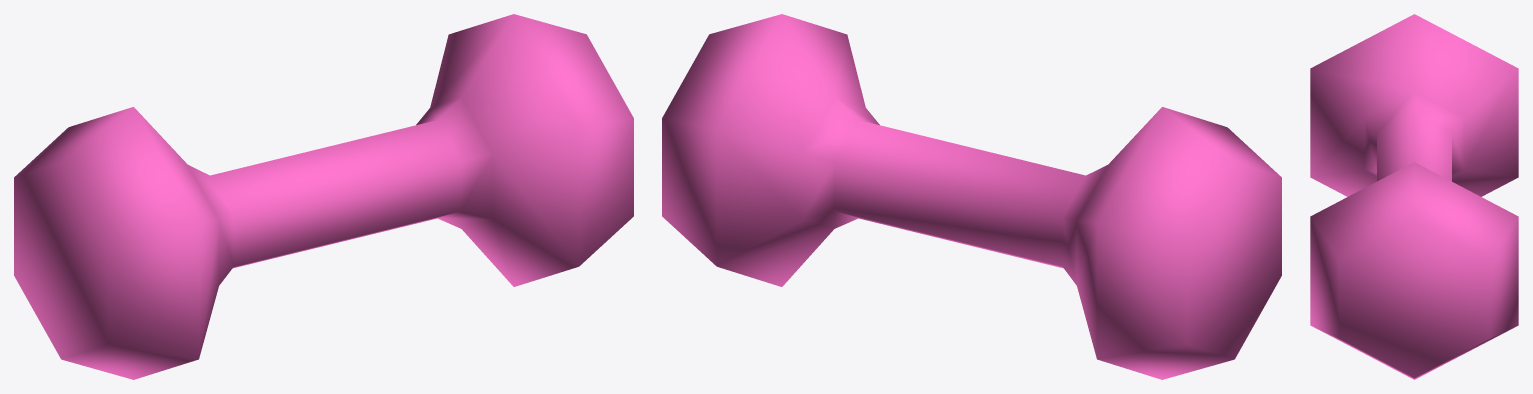
File: Weight_09.FBX
3 renders of one model, left to right at view 1: azimuth 30°, elevation 25°; view 2: azimuth 150°, elevation 25°; view 3: azimuth 270°, elevation 25°, orthographic. The views are drawn at different scales.
Visible parts, largest first — view 1: Weight; view 2: Weight; view 3: Weight.
Boxes of the visible parts, x1,y1,x2,y2 form: Weight: (14,14,633,379); Weight: (662,14,1281,379); Weight: (1310,14,1518,379).
Bounding box in the file's own units: 78.32 × 38.91 × 33.69.
